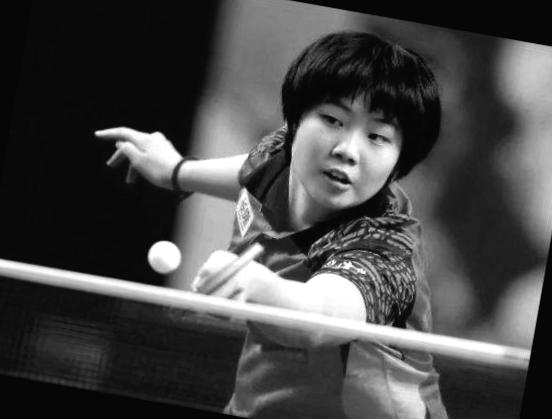ball: (142, 234, 186, 277)
